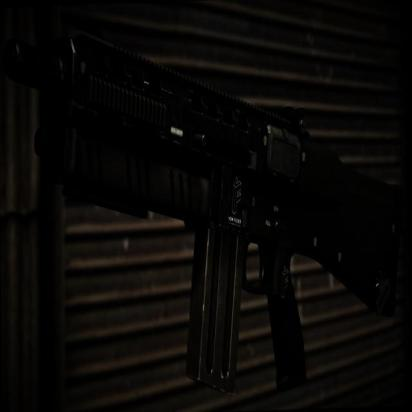Gun: (5, 14, 401, 394)
